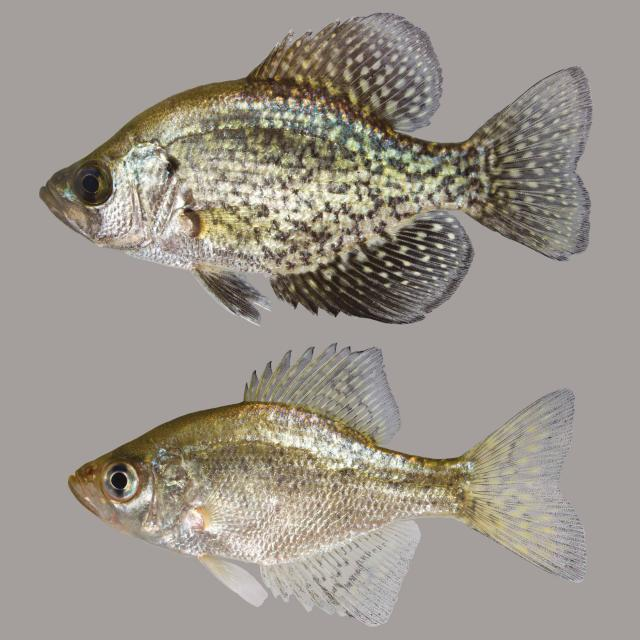Crappie - Black: (40, 14, 591, 324), (69, 346, 585, 620)
